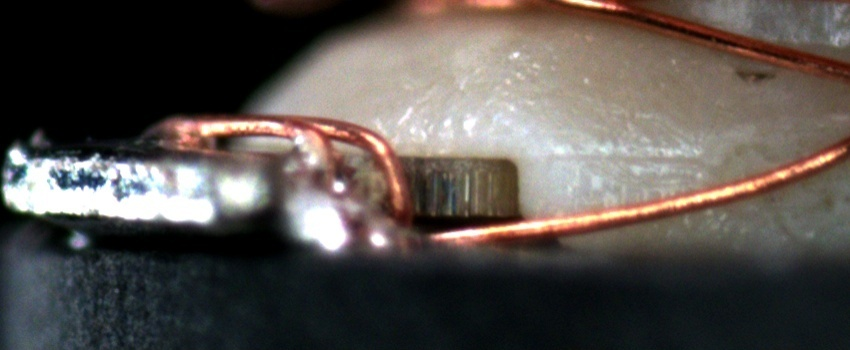DL: (541, 126, 721, 190)
TE: (150, 110, 430, 235)
